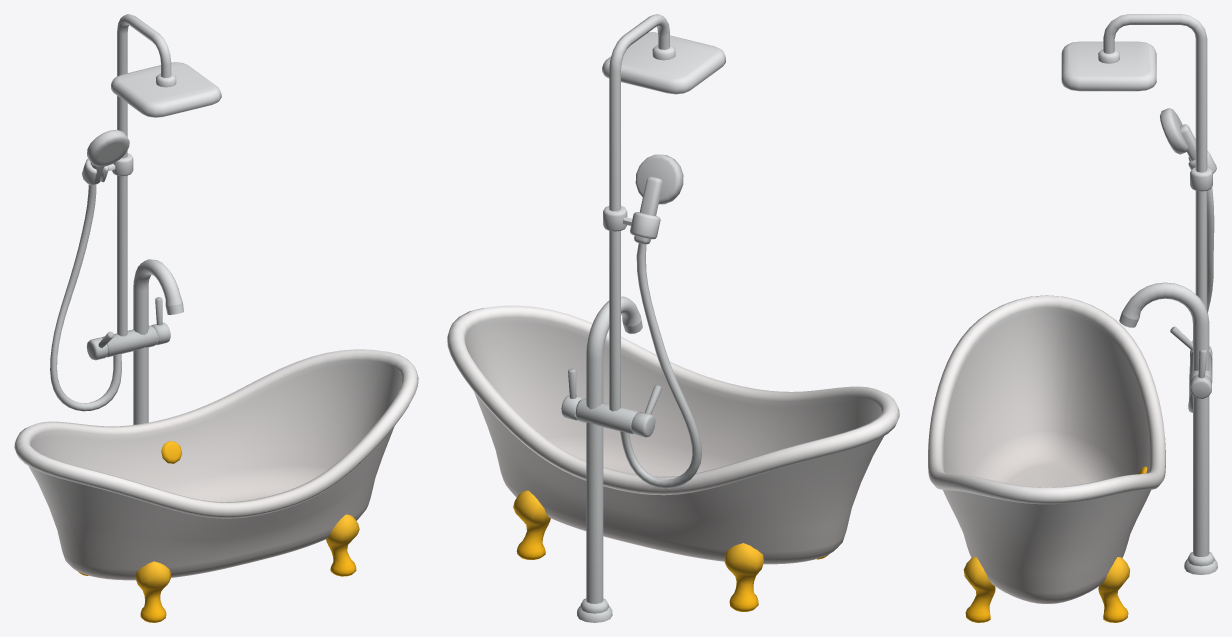
The model's file is Bath_05.glb.
3 views of the same model, side by side, from view 1: azimuth 30°, elevation 25°; view 2: azimuth 150°, elevation 25°; view 3: azimuth 270°, elevation 25° (orthographic). The views are drawn at different scales.
Parts seen in each view (by area): view 1: Bath_05; view 2: Bath_05; view 3: Bath_05.
Boxes of the visible parts, box(x1,y1,x2,y2) form: Bath_05: box(14, 14, 418, 622); Bath_05: box(447, 14, 899, 622); Bath_05: box(928, 14, 1217, 622).
Size of the model in its own units: 1.75 by 2.22 by 1.07.
1 material, 1 textured.
